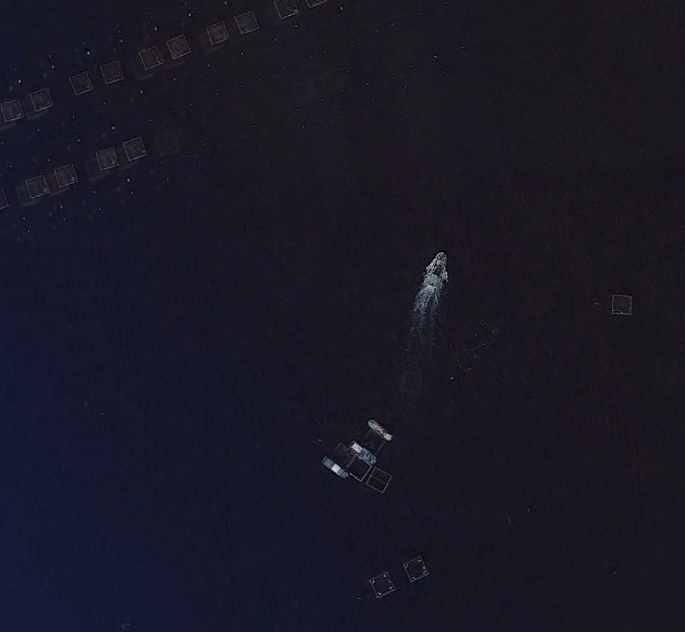ship: (363, 412, 394, 441), (316, 454, 348, 480), (426, 249, 449, 285), (347, 438, 376, 461)
square: (352, 552, 403, 599), (396, 543, 435, 585), (93, 53, 133, 91), (17, 167, 55, 205), (607, 281, 643, 321), (134, 39, 175, 73), (90, 137, 126, 175), (161, 26, 197, 63), (23, 80, 59, 117), (118, 131, 155, 165), (225, 7, 269, 35), (48, 157, 84, 191), (200, 14, 235, 48), (1, 92, 30, 129), (365, 465, 394, 502), (344, 453, 376, 485), (63, 67, 96, 96), (326, 437, 354, 469), (357, 426, 388, 454)
